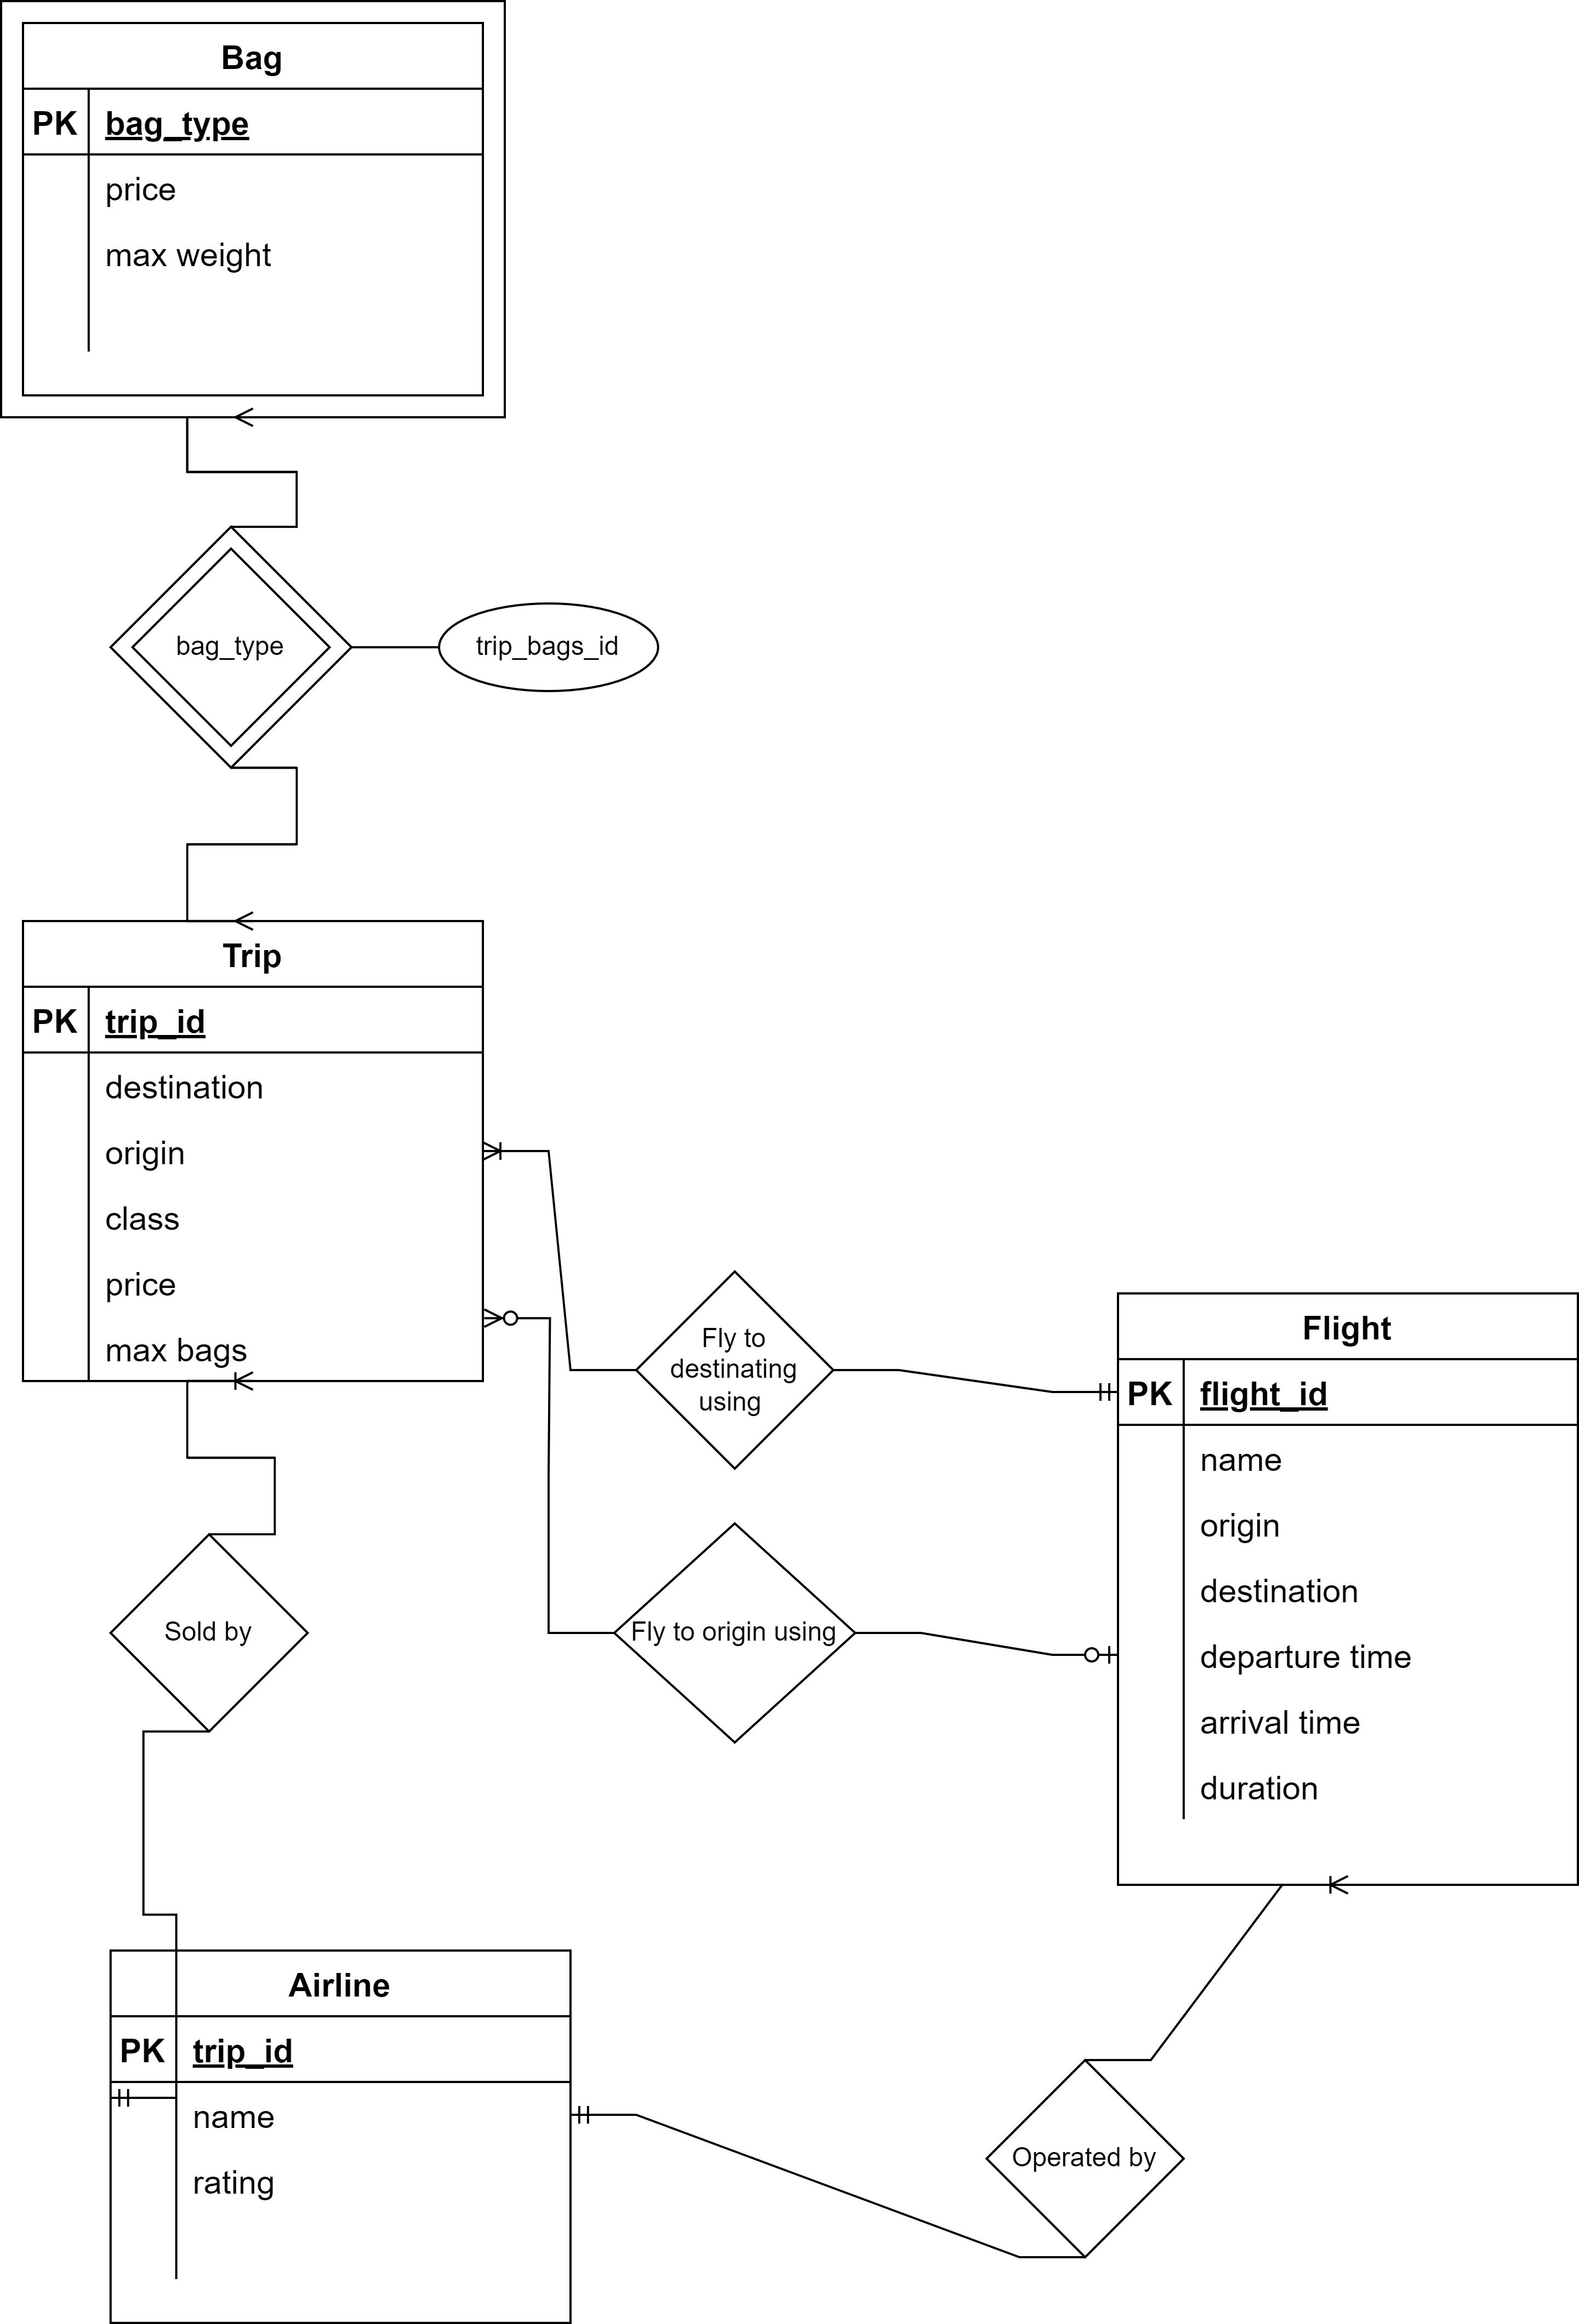attribute: (435, 597, 659, 696)
entity: (1108, 1281, 1579, 1894), (25, 918, 485, 1388), (100, 1947, 575, 2324)
relationship: (608, 1526, 855, 1746), (982, 2056, 1184, 2259), (633, 1274, 830, 1477), (113, 1535, 308, 1734)
weakentity: (0, 0, 515, 425)
weakrelationship: (106, 534, 354, 768)
